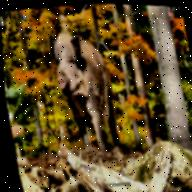boar: (46, 14, 130, 150)
